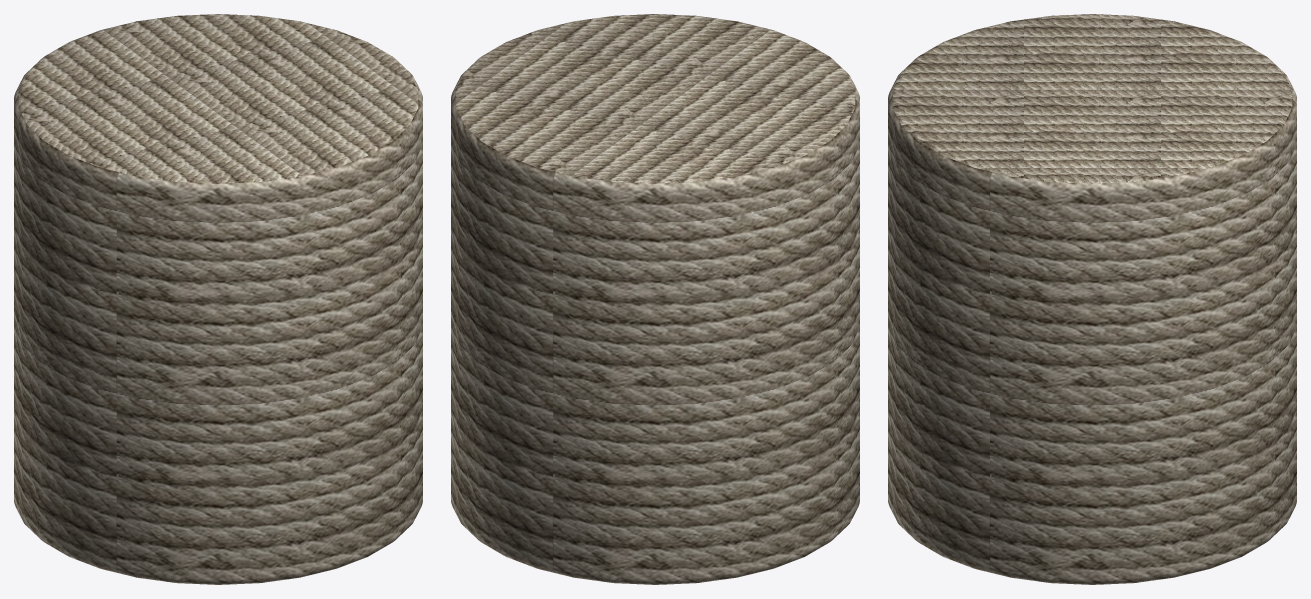
File: Puff.FBX
The picture shows the model from 3 angles, left to right: view 1: azimuth 30°, elevation 25°; view 2: azimuth 150°, elevation 25°; view 3: azimuth 270°, elevation 25°; orthographic projection.
Parts seen in each view (by area): view 1: puff; view 2: puff; view 3: puff.
Part boxes in pixels (x1,y1,x2,y2): puff: (14,14,422,584); puff: (451,14,859,584); puff: (888,14,1296,584).
Size of the model in its own units: 44.54 by 48.2 by 44.3.
1 material, 1 textured.
